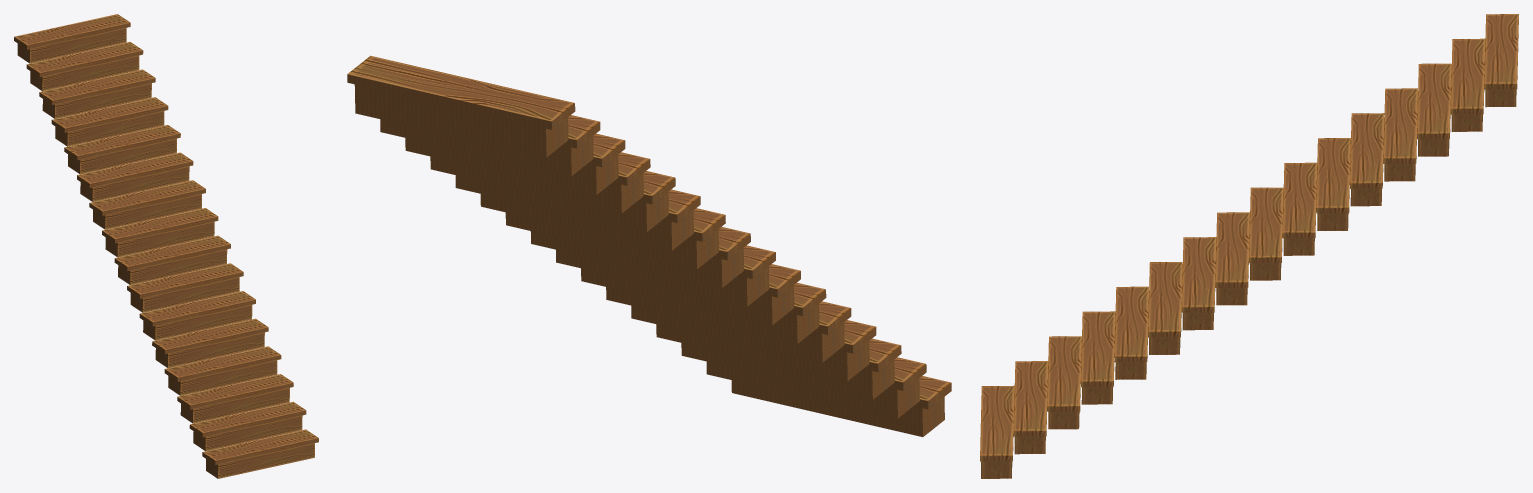
3 views of the same model, side by side, from view 1: azimuth 30°, elevation 25°; view 2: azimuth 150°, elevation 25°; view 3: azimuth 270°, elevation 25° (orthographic). The views are drawn at different scales.
Visible parts, largest first — view 1: Cube.496; view 2: Cube.496; view 3: Cube.496.
Boxes of the visible parts, x1,y1,x2,y2 form: Cube.496: (14, 14, 318, 478); Cube.496: (347, 55, 951, 436); Cube.496: (980, 14, 1518, 478).
Size of the model in its own units: 223 by 614 by 749.
Materials: 1 (1 with a texture image).
